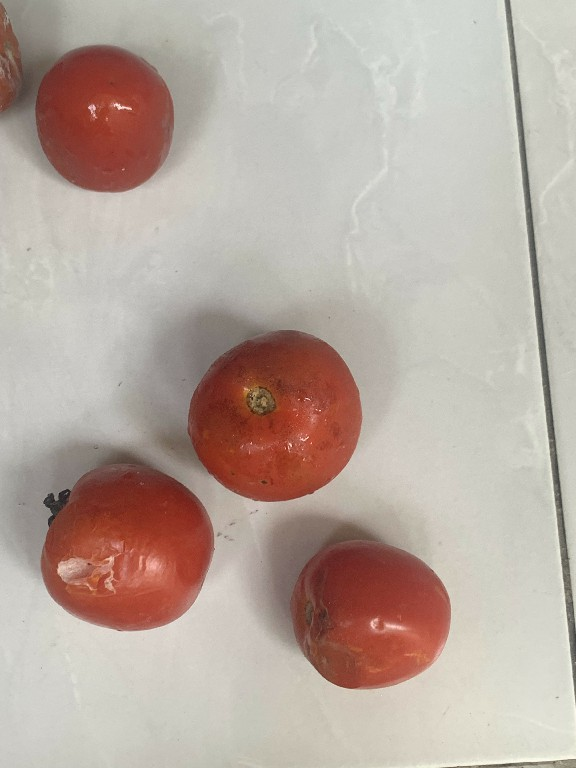NG: (20, 452, 212, 649), (188, 324, 367, 506), (284, 532, 461, 704)
OK: (19, 36, 181, 202)
